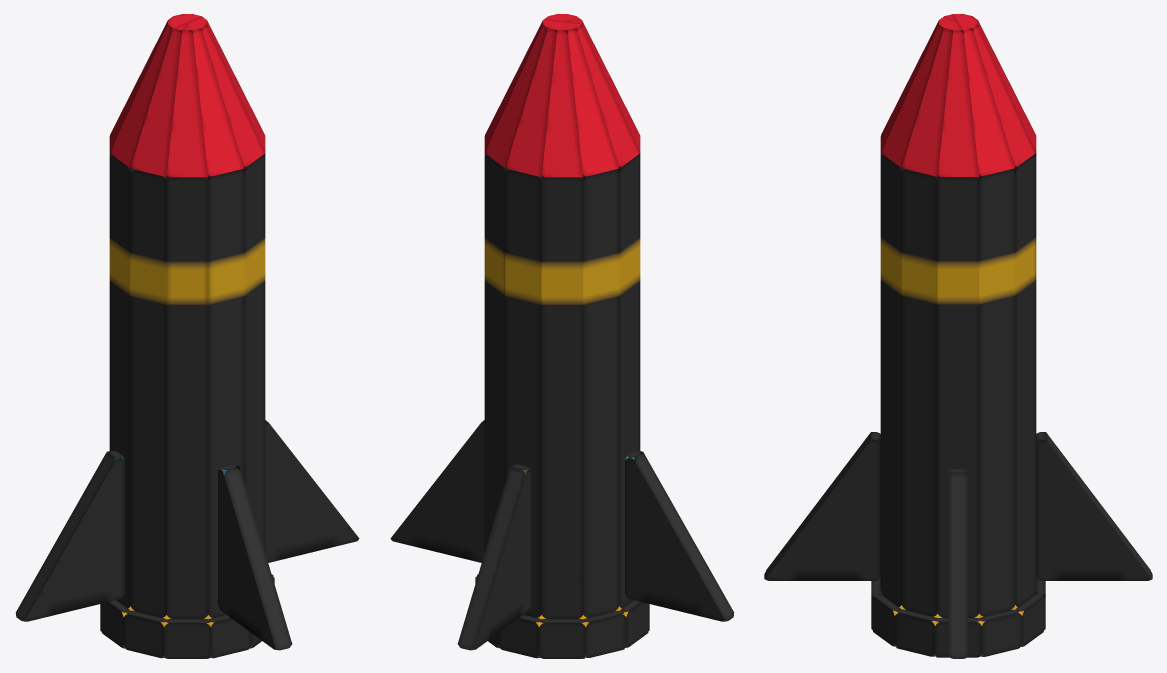
The model's file is Missel.fbx.
3 renders of one model, left to right at view 1: azimuth 30°, elevation 25°; view 2: azimuth 150°, elevation 25°; view 3: azimuth 270°, elevation 25°, orthographic.
Parts seen in each view (by area): view 1: cylinder, mesh_1, mesh, mesh_3; view 2: cylinder, mesh_1, mesh_2, mesh_3; view 3: cylinder, mesh, mesh_2, mesh_3.
Boxes of the visible parts, <box> form: cylinder: <box>100,14,274,658</box>; mesh_1: <box>15,450,124,621</box>; mesh: <box>218,464,292,650</box>; mesh_3: <box>265,420,359,562</box>; cylinder: <box>475,14,649,658</box>; mesh_1: <box>625,450,734,621</box>; mesh_2: <box>457,464,531,650</box>; mesh_3: <box>390,420,484,562</box>; cylinder: <box>871,14,1045,657</box>; mesh: <box>764,432,880,580</box>; mesh_2: <box>1036,432,1152,580</box>; mesh_3: <box>948,469,968,658</box>.
Bounding box in the file's own units: 250 × 425 × 250.
Materials: 1 (1 with a texture image).
